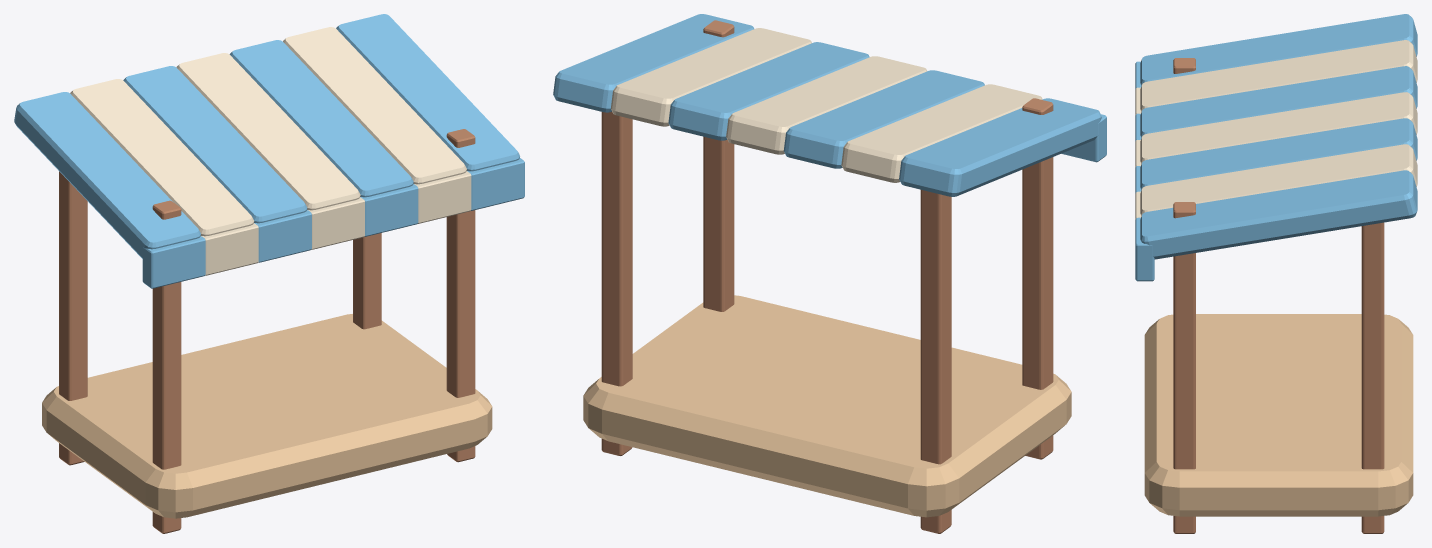
File: parking_shelter.glb
The picture shows the model from 3 angles, left to right: view 1: azimuth 30°, elevation 25°; view 2: azimuth 150°, elevation 25°; view 3: azimuth 270°, elevation 25°; orthographic projection. The views are drawn at different scales.
Parts seen in each view (by area): view 1: model, awning; view 2: model, awning; view 3: model, awning.
Part boxes in pixels (x1,y1,x2,y2): model: (42, 129, 524, 533); awning: (14, 14, 519, 258); model: (583, 20, 1106, 533); awning: (553, 14, 1101, 196); model: (1135, 58, 1413, 533); awning: (1140, 14, 1417, 259).
Bounding box in the file's own units: 2 × 1.8 × 1.3.
